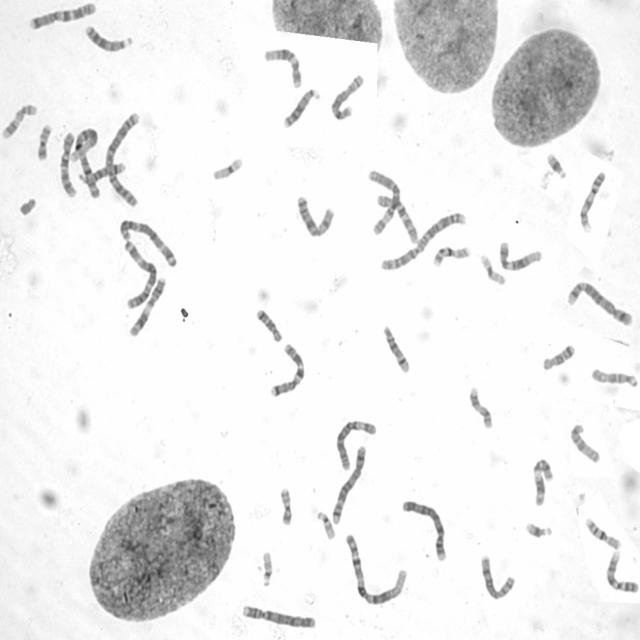A1: (344, 530, 408, 606), (68, 127, 101, 201)
A2: (377, 208, 467, 273), (102, 109, 142, 209)
A3: (117, 214, 178, 270), (121, 238, 159, 310)
B4: (399, 497, 448, 562), (240, 601, 317, 630)
B5: (564, 278, 634, 328), (329, 442, 368, 526)
C10: (374, 191, 420, 246), (57, 128, 77, 199)
C11: (126, 274, 168, 338), (529, 455, 554, 508)
C12: (262, 46, 303, 90), (497, 238, 542, 273)
C6: (365, 166, 402, 238), (332, 417, 378, 472)
C7: (266, 340, 306, 400), (26, 0, 96, 31)
C8: (328, 70, 366, 121), (478, 552, 516, 602)
C9: (576, 168, 607, 234), (604, 549, 639, 594)
D13: (82, 21, 134, 55), (281, 86, 320, 129)
D14: (381, 322, 411, 375), (76, 159, 126, 186)
D15: (568, 419, 602, 465), (589, 366, 639, 390)
E16: (584, 516, 622, 552), (430, 242, 471, 268)
E17: (0, 100, 39, 141), (467, 384, 494, 430)
E18: (254, 305, 283, 344), (540, 341, 576, 371)
F19: (478, 251, 507, 287), (210, 155, 244, 181)
F20: (277, 484, 294, 528), (35, 121, 53, 162)
G21: (544, 150, 568, 180), (524, 519, 554, 541)
G22: (314, 508, 337, 541), (259, 548, 274, 588)
X: (294, 193, 336, 240)
Y: (17, 193, 38, 218)
